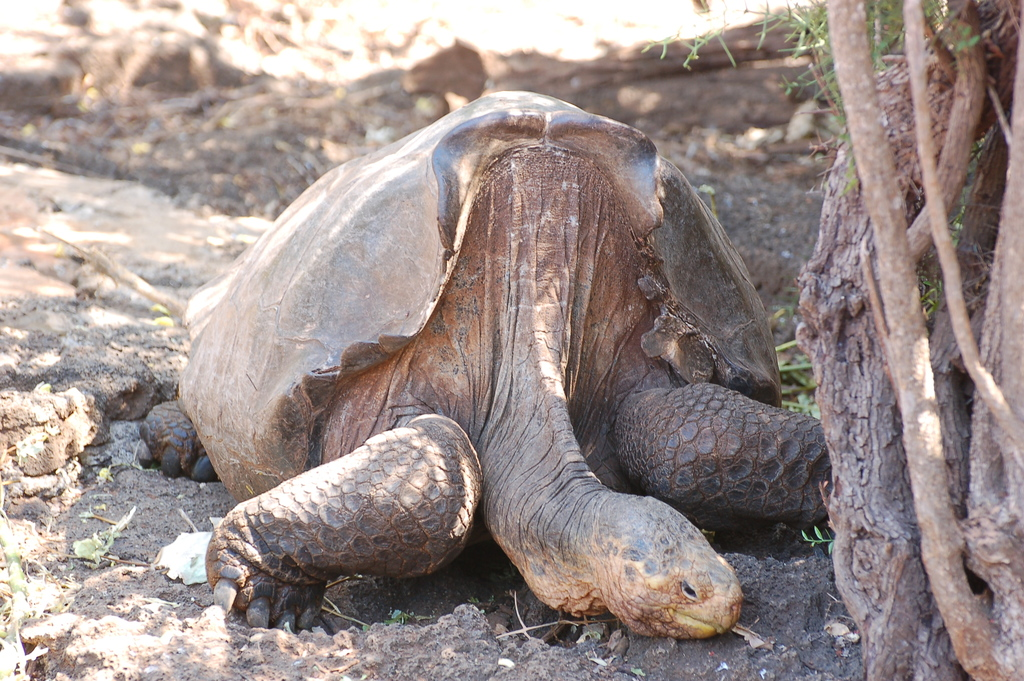Sea turtles: (131, 90, 830, 641)
